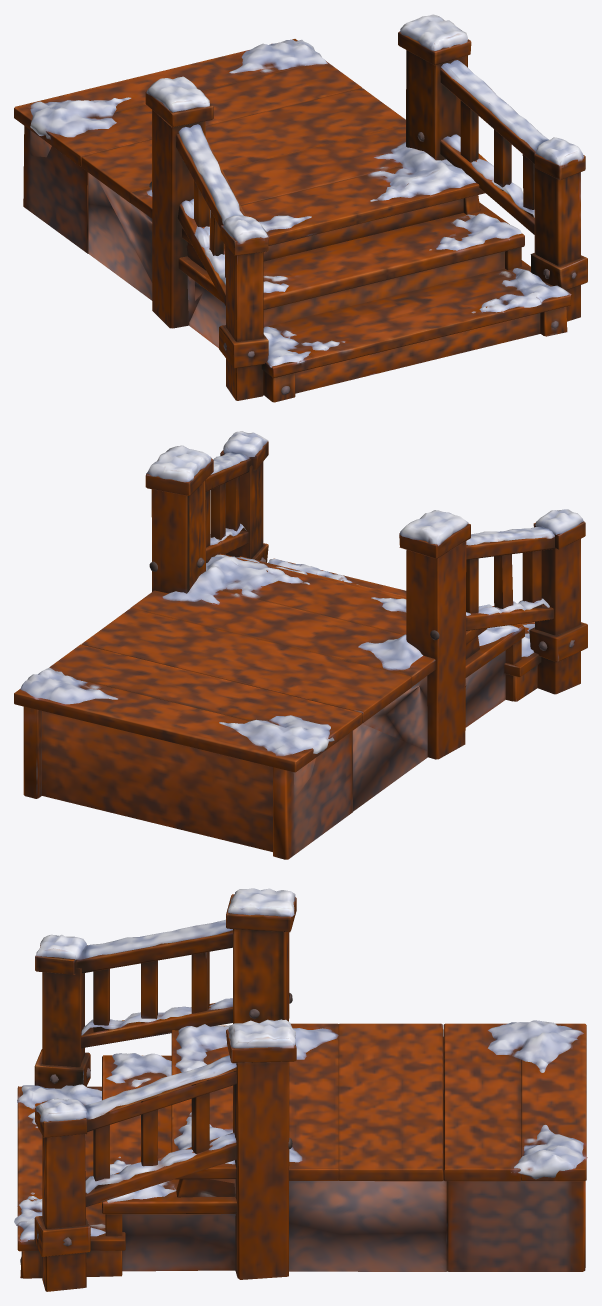
Rendered from HK_steps.glb.
3 renders of one model, top to bottom at view 1: azimuth 30°, elevation 25°; view 2: azimuth 150°, elevation 25°; view 3: azimuth 270°, elevation 25°, orthographic. The views are drawn at different scales.
Parts seen in each view (by area): view 1: geometry_0; view 2: geometry_0; view 3: geometry_0.
Part boxes in pixels (left/top/right/bottom): geometry_0: left=14, top=14, right=587, bottom=402; geometry_0: left=14, top=431, right=587, bottom=859; geometry_0: left=14, top=888, right=587, bottom=1291.
Size of the model in its own units: 0.7261 by 0.4517 by 0.959.
1 material, 1 textured.
